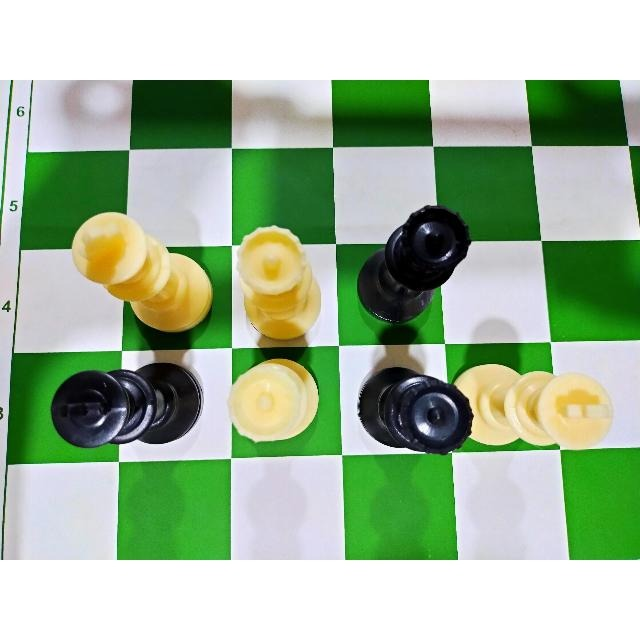black-king: (49, 358, 209, 448)
black-queen: (352, 203, 475, 325), (353, 361, 477, 460)
white-king: (65, 208, 214, 331), (460, 358, 616, 454)
white-queen: (230, 221, 322, 339), (222, 357, 326, 443)
